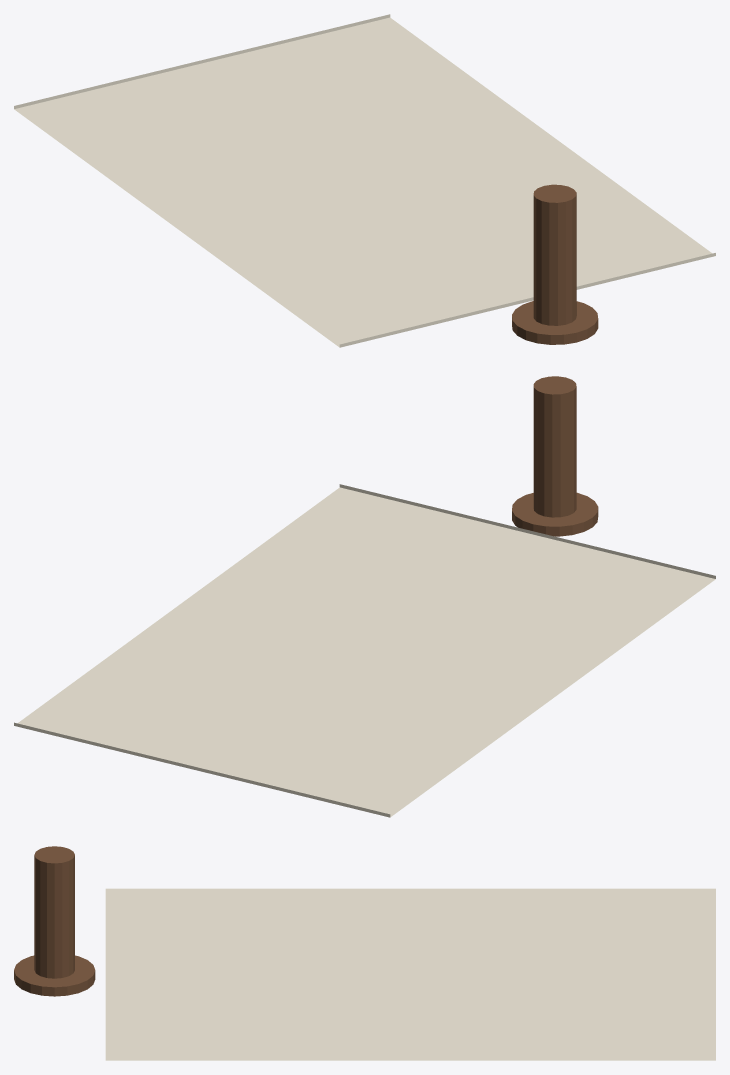
The model's file is iching_hexagram_board.glb.
3 views of the same model, one above another, from view 1: azimuth 30°, elevation 25°; view 2: azimuth 150°, elevation 25°; view 3: azimuth 270°, elevation 25° (orthographic). The views are drawn at different scales.
Visible parts, largest first — view 1: board; view 2: board; view 3: board.
Boxes of the visible parts, bbox=[...] form: board: bbox=[14, 14, 715, 347]; board: bbox=[14, 376, 715, 817]; board: bbox=[14, 846, 715, 1060].
Bounding box in the file's own units: 1.2 × 0.4051 × 2.07.
